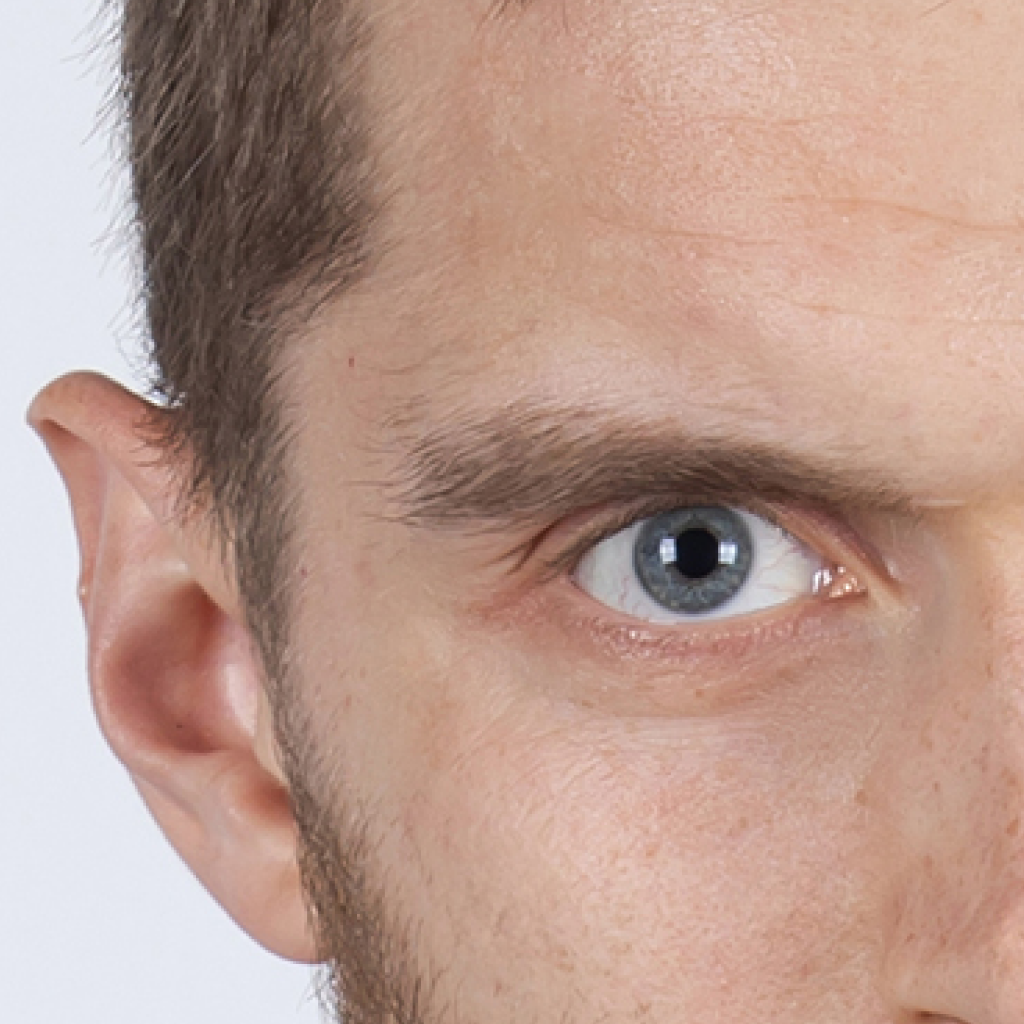iris: (634, 507, 753, 613)
pupil: (671, 529, 723, 576)
sclera: (570, 506, 862, 623)
